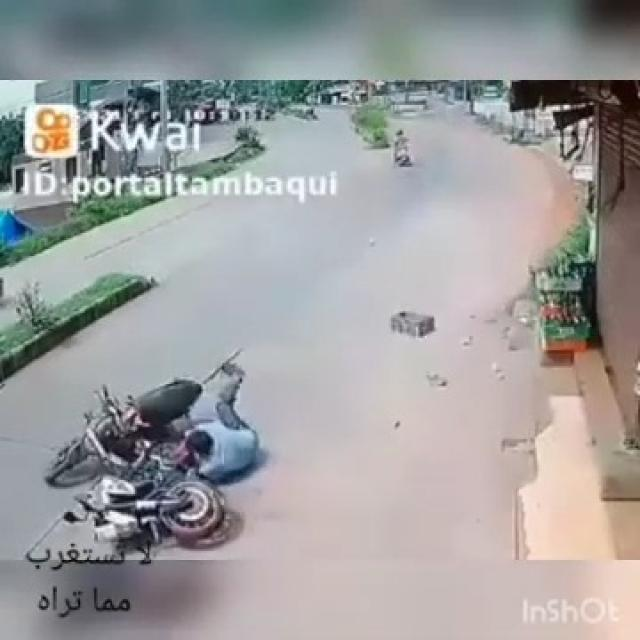accident: (48, 354, 270, 550)
